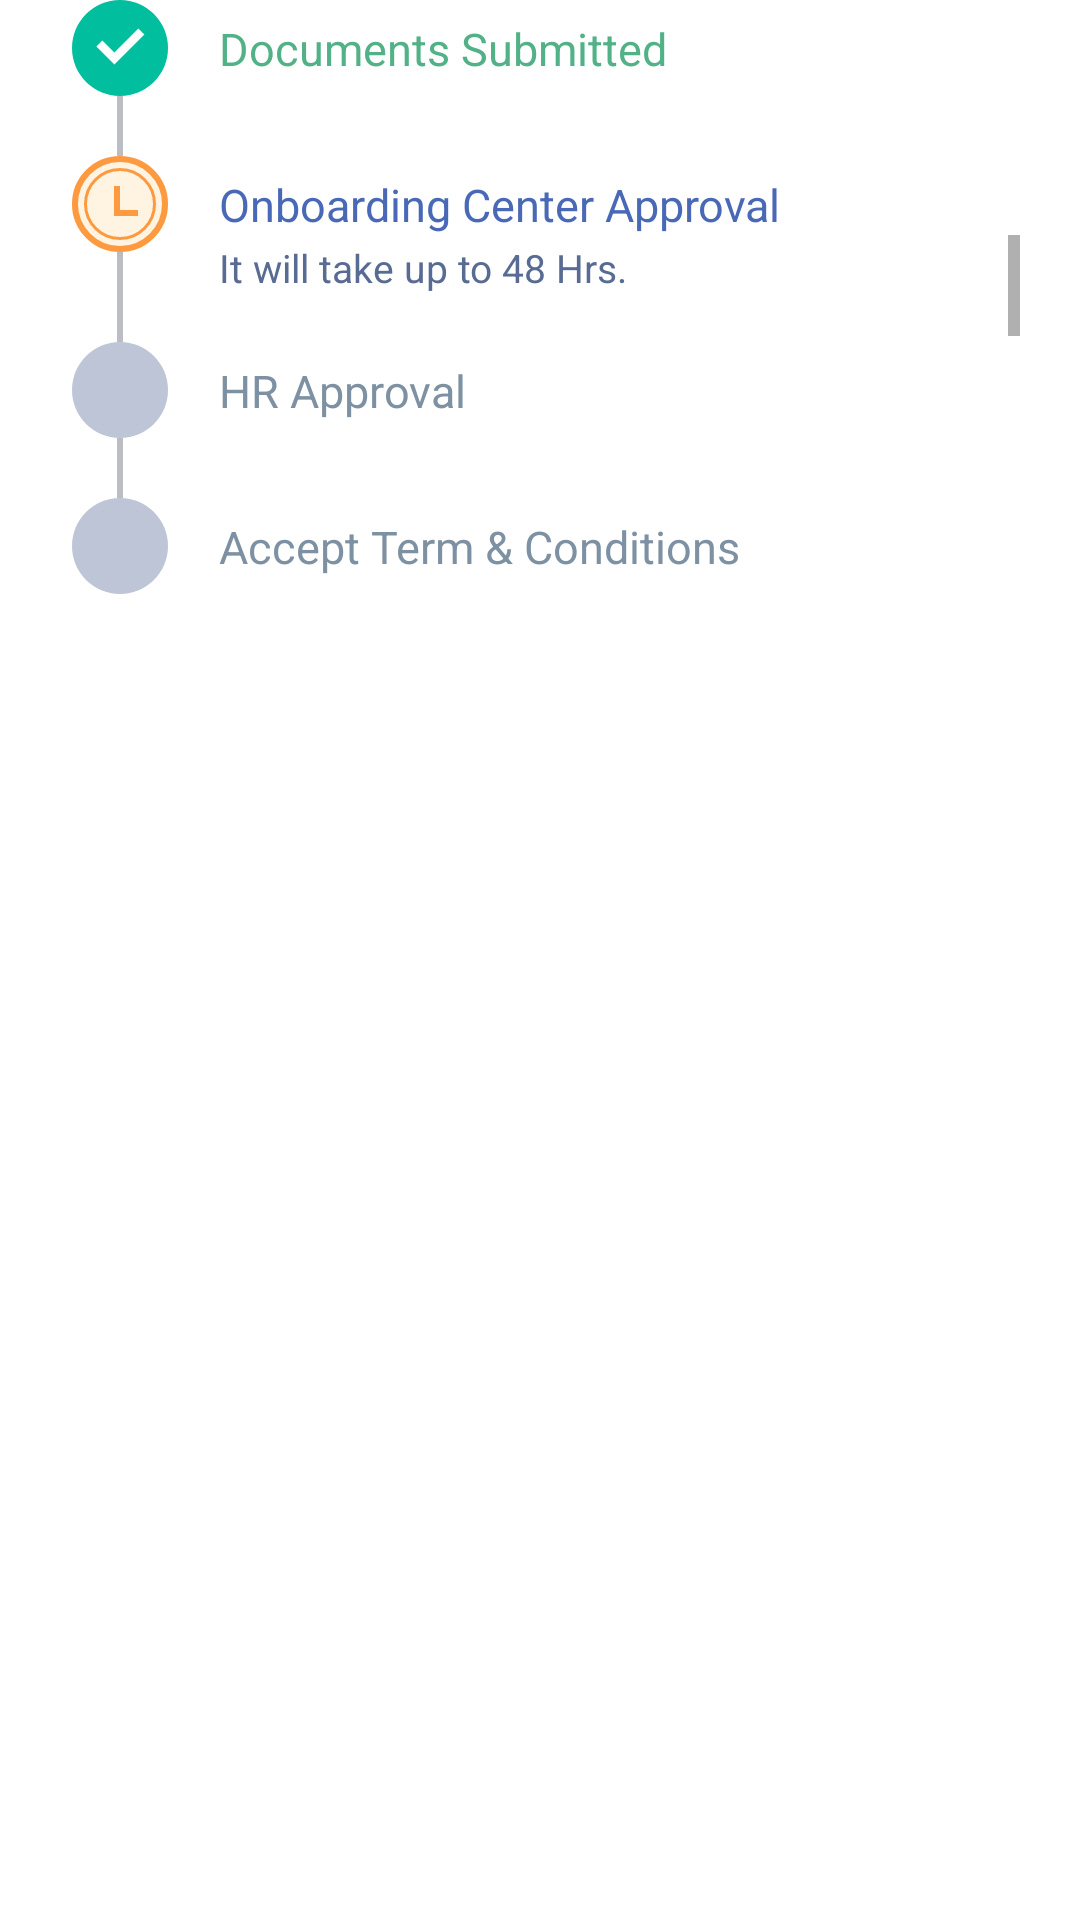

Where icons sit on this 1080 x 1920 app screen, as (x1, y1, x2, y2):
pending: (72, 156, 168, 252)
success status: (72, 0, 168, 96)
